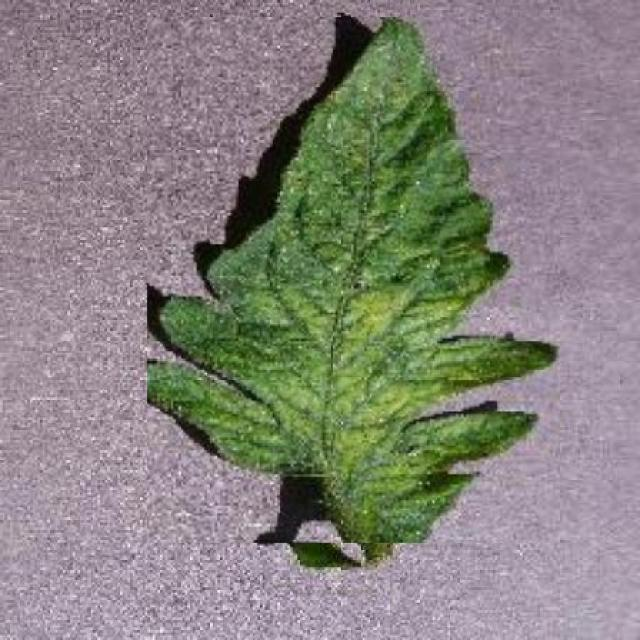Mosaic Virus: (147, 17, 560, 543)
